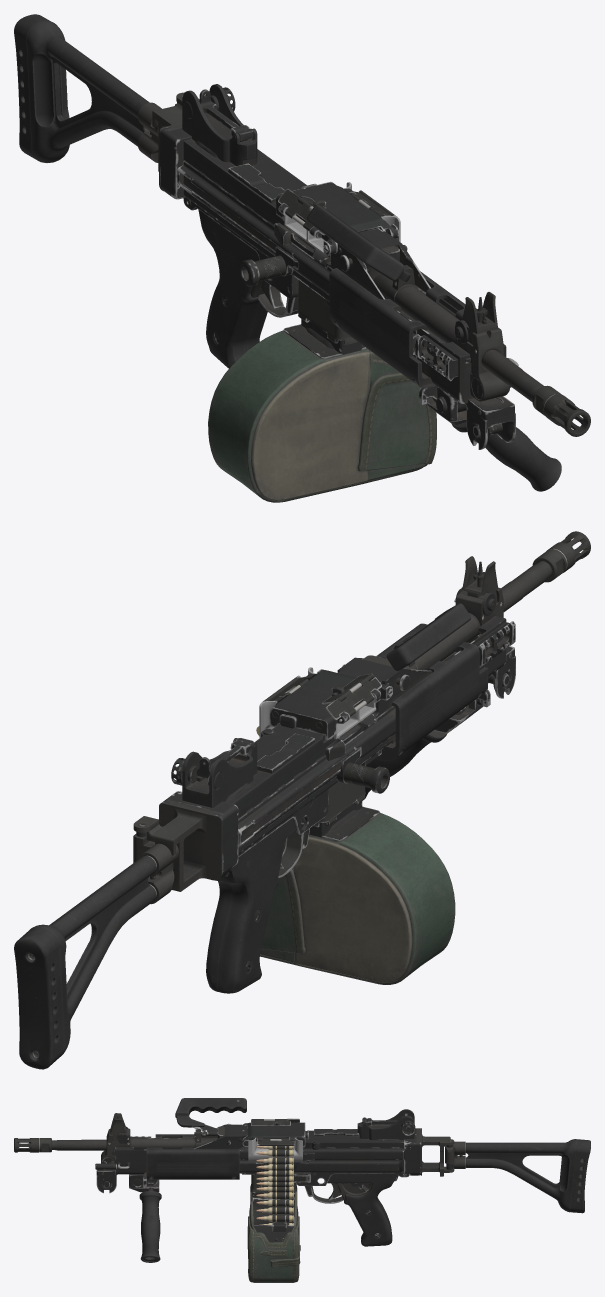
File: negev.glb
3 renders of one model, top to bottom at view 1: azimuth 30°, elevation 25°; view 2: azimuth 150°, elevation 25°; view 3: azimuth 270°, elevation 25°, orthographic. The views are drawn at different scales.
Visible parts, largest first — view 1: Negev_CS2; view 2: Negev_CS2; view 3: Negev_CS2.
Part boxes in pixels (left/top/right/bottom): Negev_CS2: left=14, top=14, right=590, bottom=502; Negev_CS2: left=14, top=531, right=590, bottom=1069; Negev_CS2: left=14, top=1098, right=590, bottom=1282.
Size of the model in its own units: 0.2249 by 0.3013 by 1.01.
Materials: 1 (1 with a texture image).
